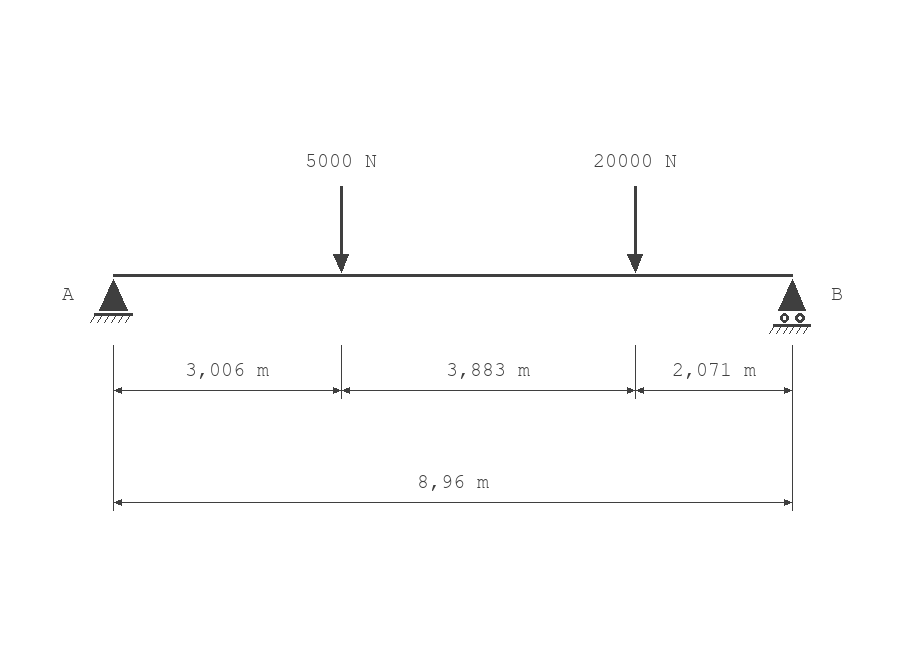pin_support: (90, 279, 133, 323)
point_load: (333, 186, 349, 273), (627, 186, 643, 273)
roller_support: (769, 279, 811, 334)
